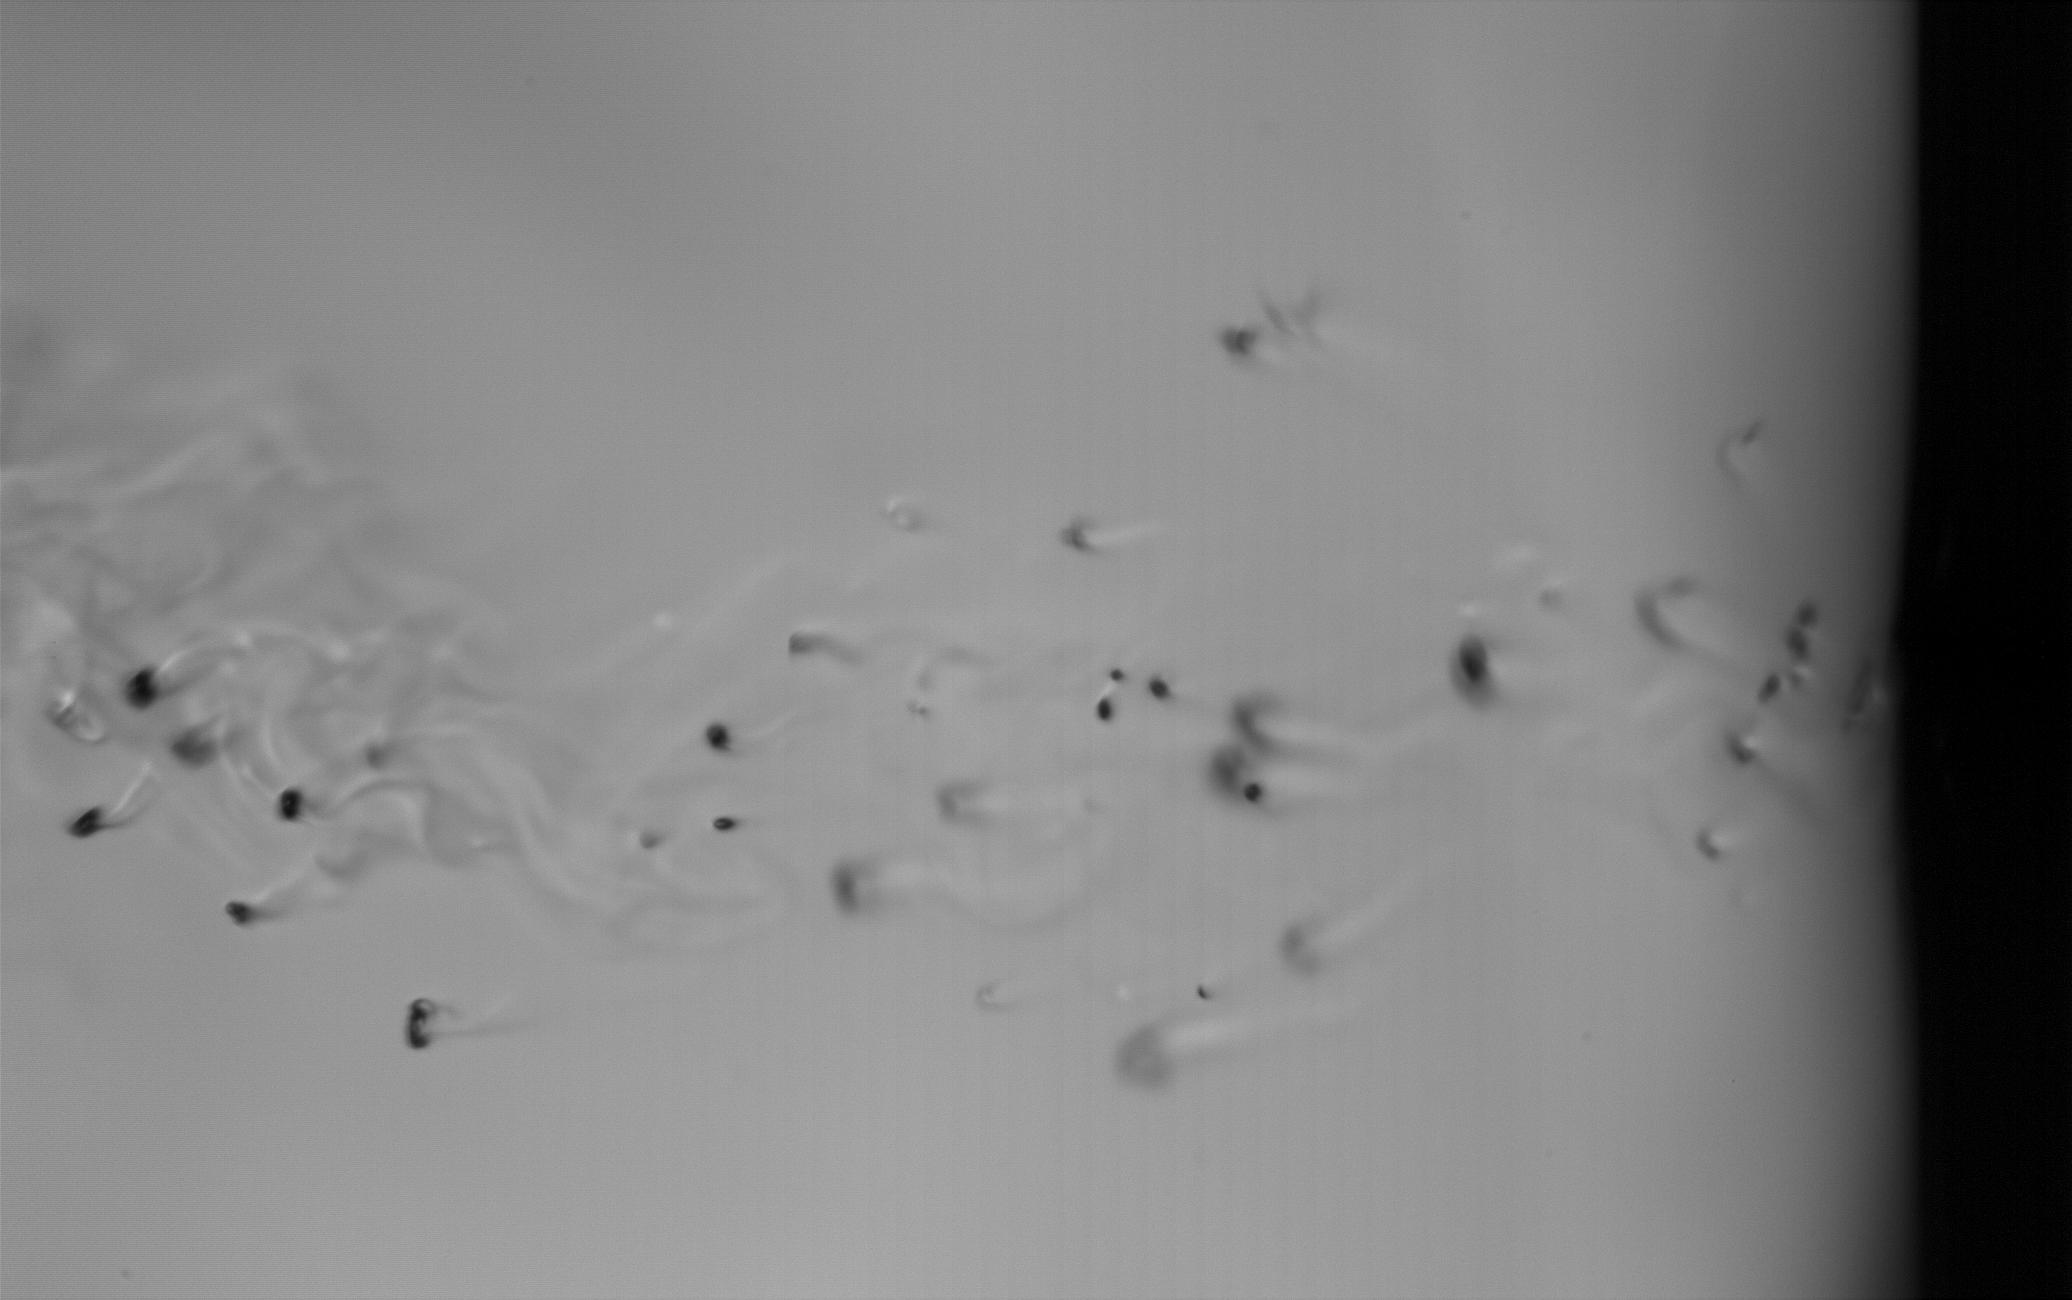Blurry: (168, 711, 232, 771), (401, 984, 439, 1054), (1216, 321, 1268, 362)
ClassicalEvaporation: (701, 716, 738, 753), (1145, 671, 1177, 711), (1091, 692, 1118, 726), (1243, 780, 1270, 809), (1106, 663, 1126, 684)
DiffusiveMixing: (1205, 690, 1280, 809), (1633, 578, 1707, 659), (822, 842, 886, 927), (121, 660, 217, 714), (60, 792, 153, 845), (784, 628, 874, 672), (271, 783, 353, 828), (225, 896, 299, 929)
TransitionalMixing: (1449, 629, 1499, 713), (704, 815, 743, 837)
